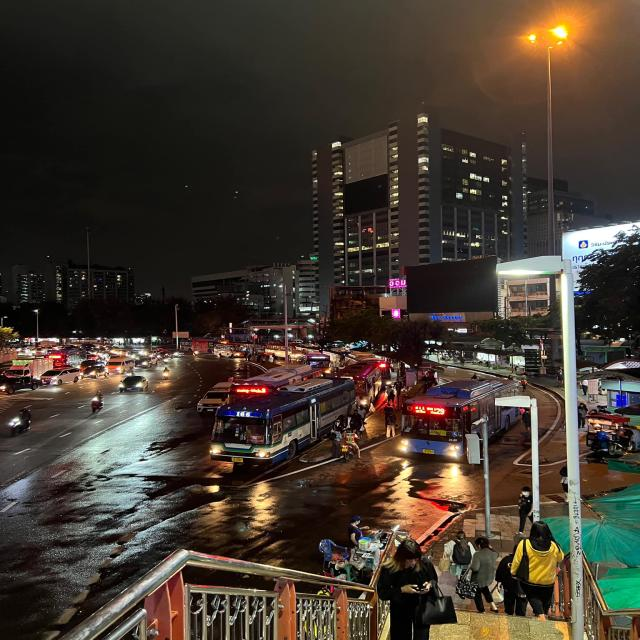BMTA-bus: (205, 376, 357, 466), (227, 364, 324, 404), (329, 362, 382, 410)
Bus-Line-Number: (234, 411, 253, 418), (256, 386, 267, 394)
Destination-Sign-Extra-Bus: (246, 434, 264, 444)
